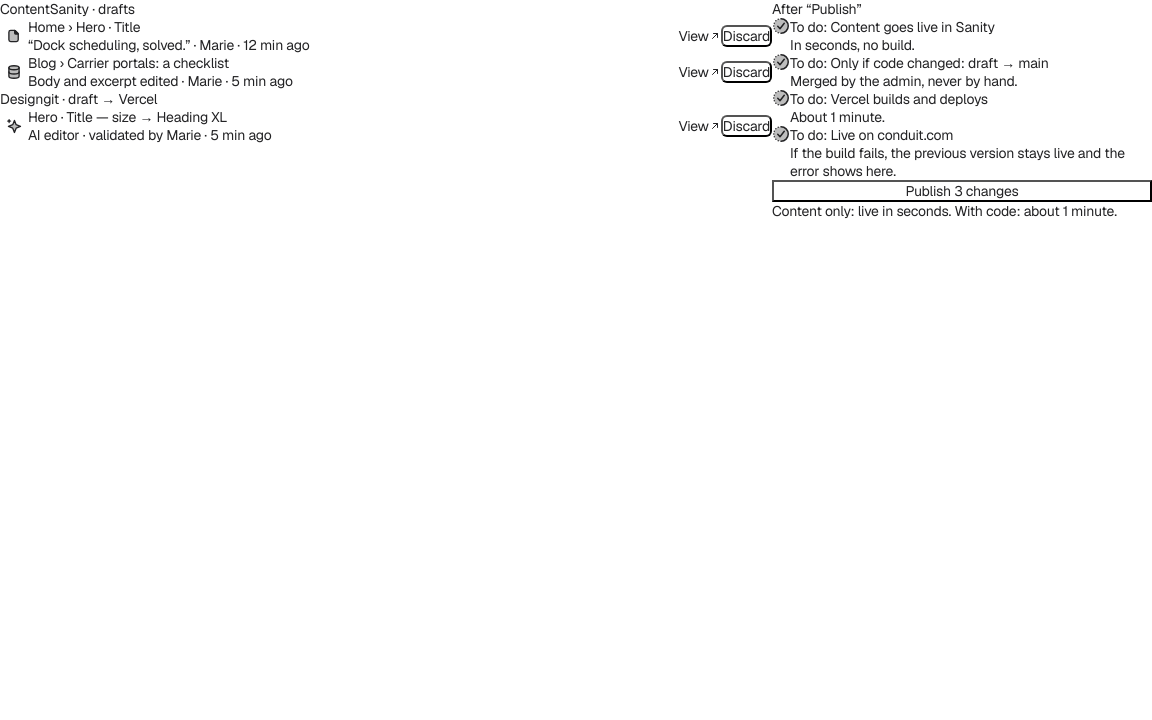
Test: E1 · Pending › Discard refusé : le message reste dans la fenêtre
Click the button with aria-label "Discard Hero · Title — size → Heading XL" at (746, 126), box [721, 115, 772, 137]
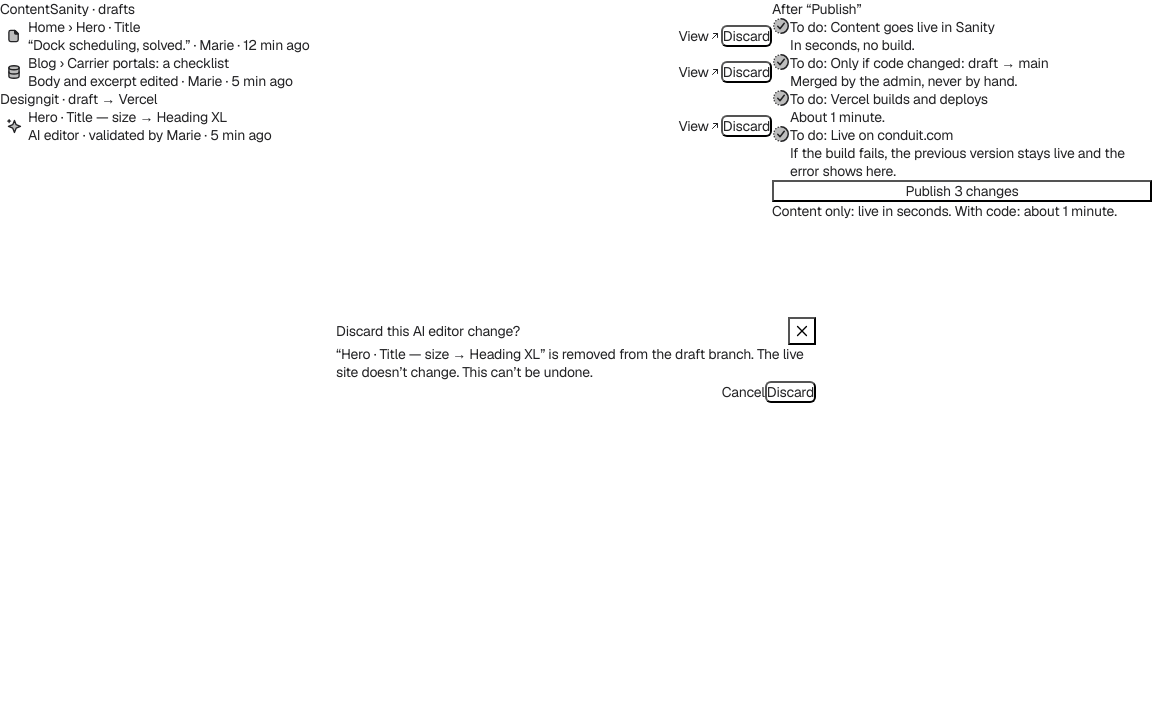
Click the button "Discard" at (790, 392), box [765, 381, 816, 403]
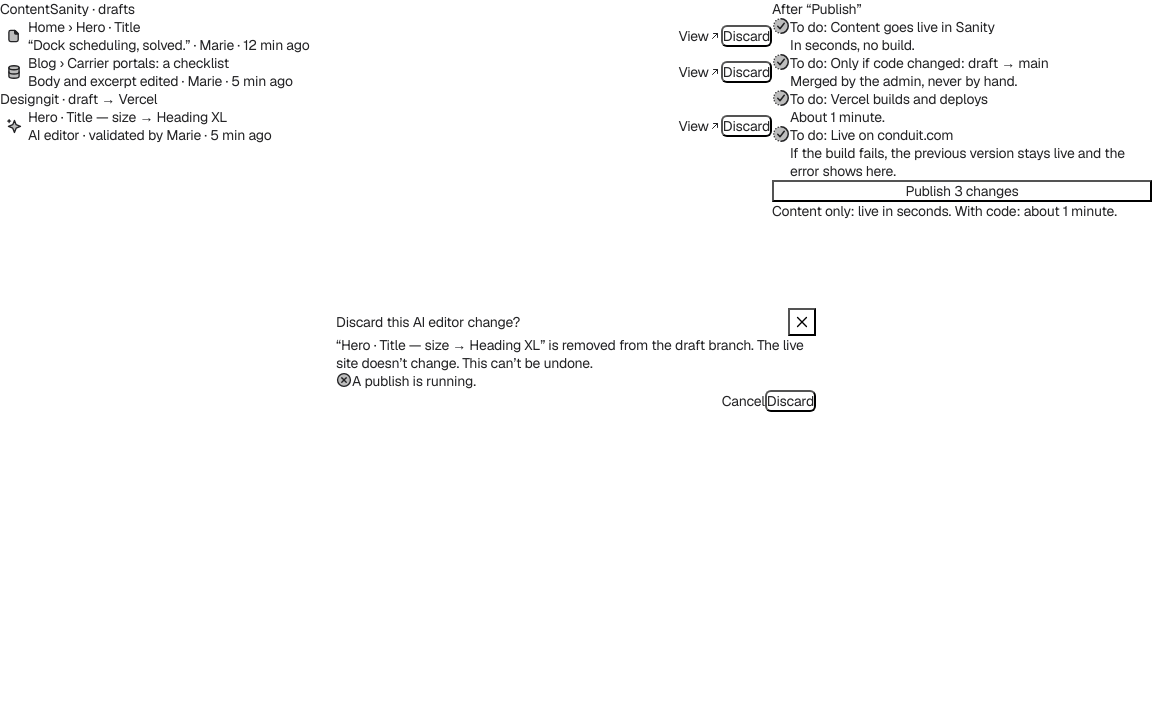
Expected: the message reads "A publish is running.", [352, 372, 476, 390]
